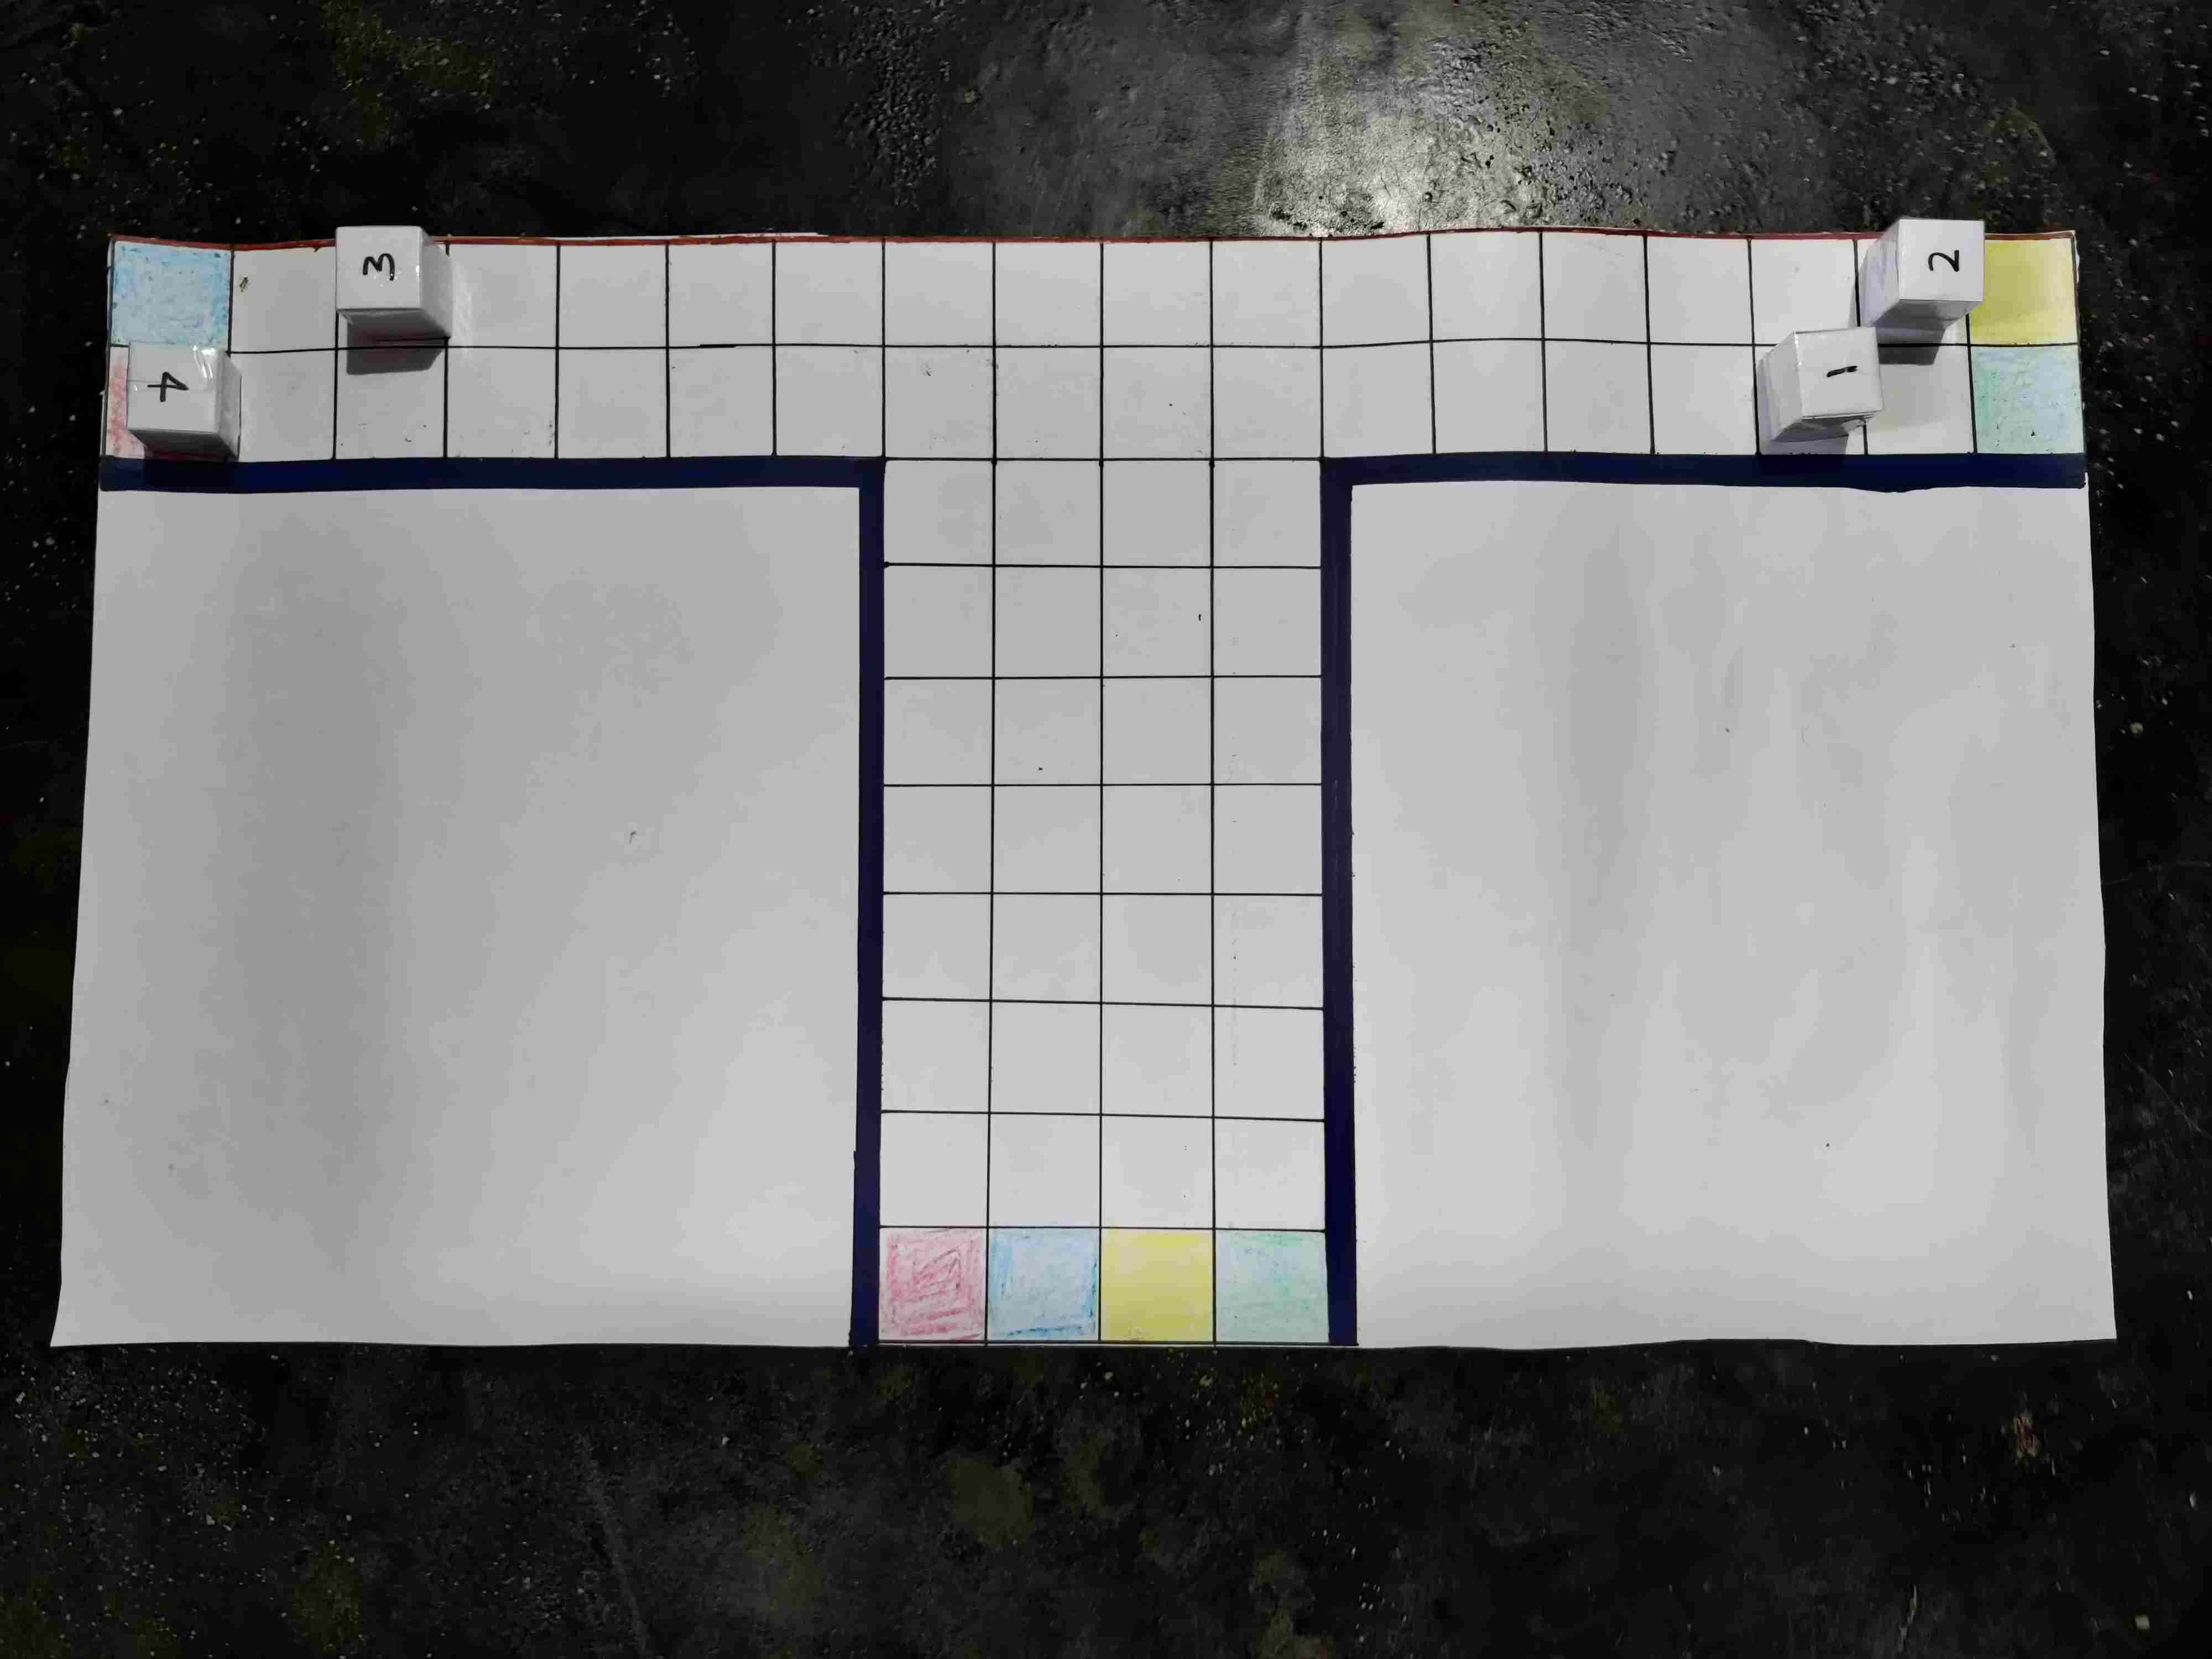arena: (52, 234, 1958, 1298)
bot: (808, 897, 902, 979), (253, 1241, 338, 1316), (1233, 1119, 1313, 1197), (1667, 1223, 1742, 1298)
